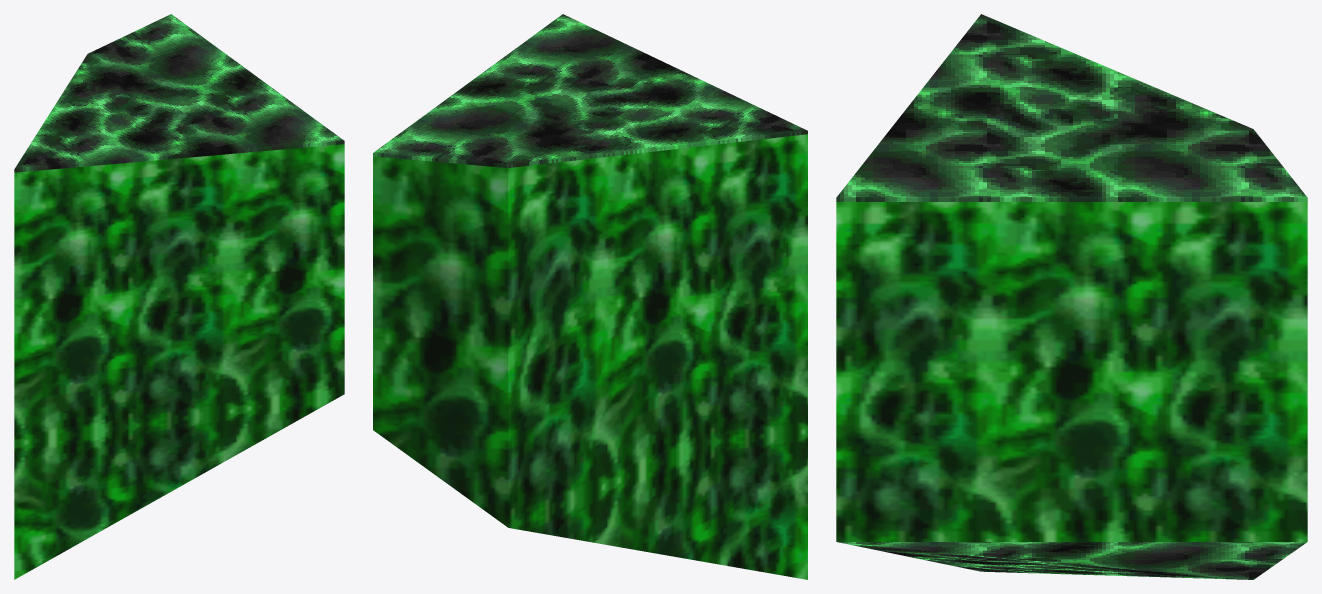
3 views of the same model, side by side, from view 1: azimuth 30°, elevation 25°; view 2: azimuth 150°, elevation 25°; view 3: azimuth 270°, elevation 25° (orthographic). The views are drawn at different scales.
Parts seen in each view (by area): view 1: kb3_g; view 2: kb3_g; view 3: kb3_g.
Boxes of the visible parts, bbox=[...] form: kb3_g: bbox=[14, 14, 344, 579]; kb3_g: bbox=[373, 14, 807, 579]; kb3_g: bbox=[836, 14, 1307, 579].
Bounding box in the file's own units: 231 × 326 × 250.
Materials: 2 (2 with a texture image).
